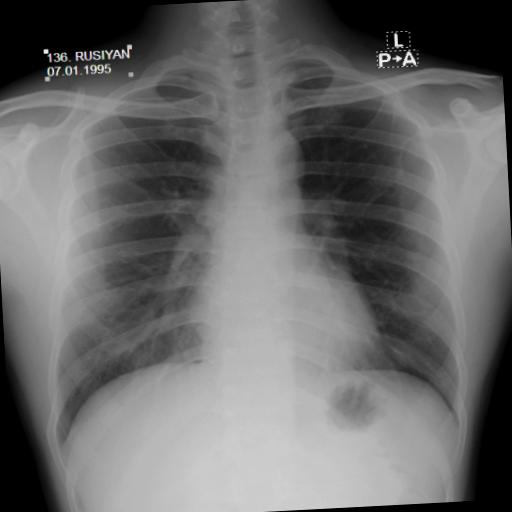normal: (25, 42, 477, 462)
